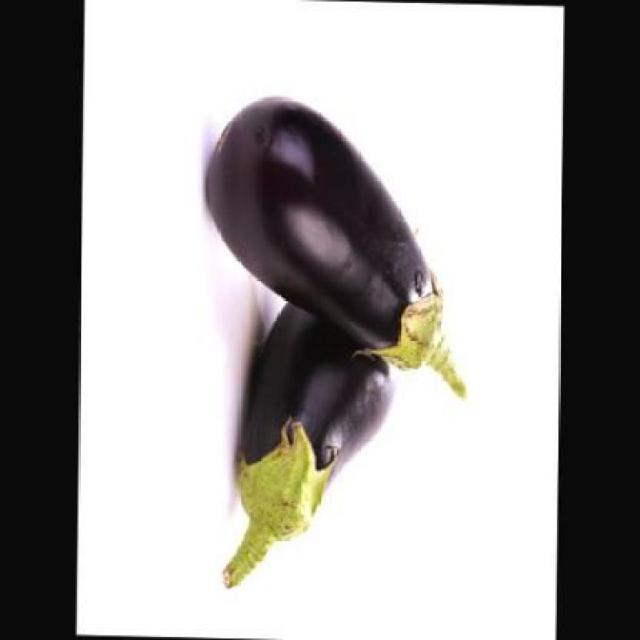eggplant: (202, 92, 476, 402), (220, 298, 403, 592)
